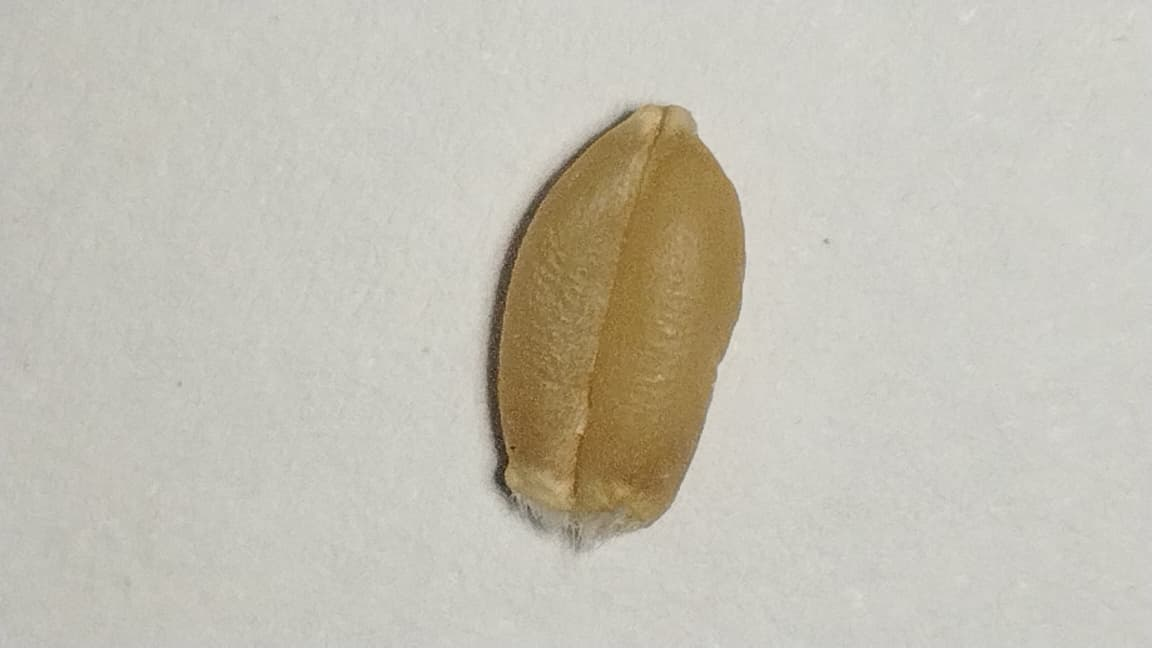healthy: (496, 105, 744, 541)
